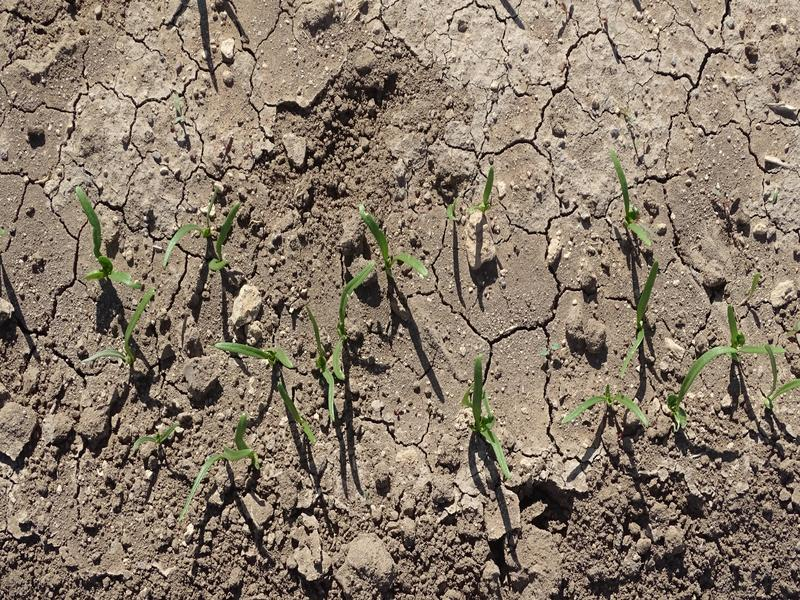Espinaca: (179, 411, 264, 515), (73, 187, 145, 288), (168, 191, 247, 278), (462, 358, 515, 476), (83, 290, 158, 368), (327, 265, 374, 378), (620, 259, 666, 372), (359, 204, 428, 279), (669, 347, 728, 422), (569, 378, 647, 428), (612, 163, 649, 252), (221, 338, 296, 372)
